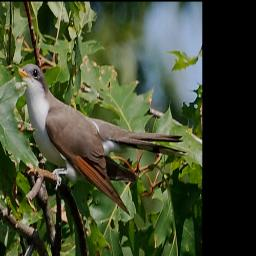Cuckoo: (18, 63, 187, 215)
